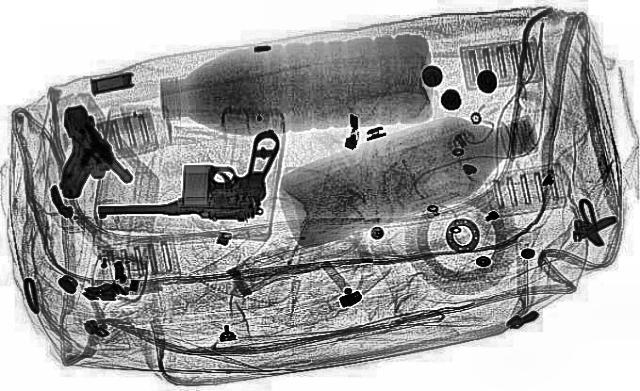Gun: (90, 130, 286, 225), (3, 100, 143, 200)
